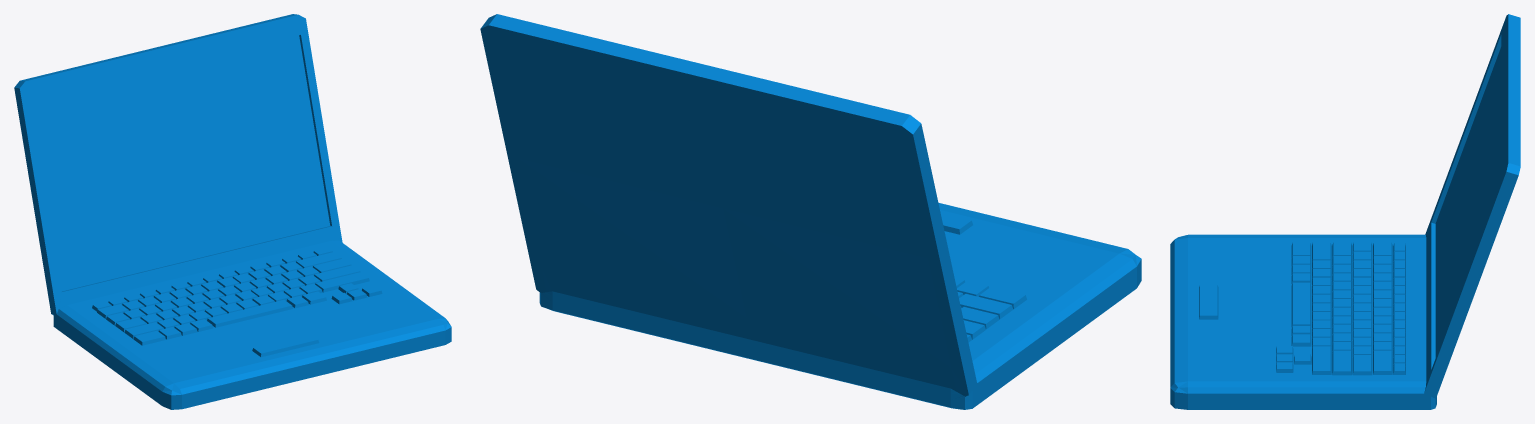
3 views of the same model, side by side, from view 1: azimuth 30°, elevation 25°; view 2: azimuth 150°, elevation 25°; view 3: azimuth 270°, elevation 25° (orthographic). The views are drawn at different scales.
Visible parts, largest first — view 1: imagetostl_mesh; view 2: imagetostl_mesh; view 3: imagetostl_mesh.
Boxes of the visible parts, <box> form: imagetostl_mesh: <box>14,14,451,409</box>; imagetostl_mesh: <box>480,14,1141,409</box>; imagetostl_mesh: <box>1170,14,1520,409</box>.
Bounding box in the file's own units: 59.45 × 43.61 × 56.52.
